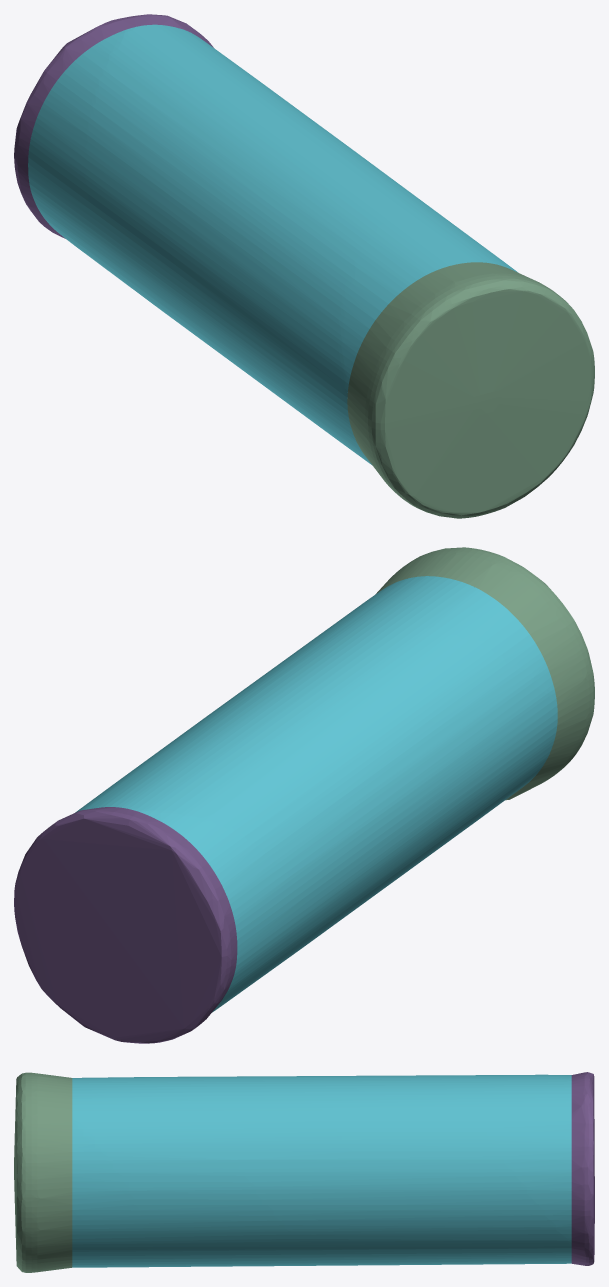
Rendered from coacd_collision.obj.
3 renders of one model, top to bottom at view 1: azimuth 30°, elevation 25°; view 2: azimuth 150°, elevation 25°; view 3: azimuth 270°, elevation 25°, orthographic. The views are drawn at different scales.
Parts seen in each view (by area): view 1: geometry_2, geometry_0, geometry_1; view 2: geometry_2, geometry_1, geometry_0; view 3: geometry_2, geometry_0, geometry_1.
Boxes of the visible parts, x1,y1,x2,y2 form: geometry_2: [28, 24, 518, 465]; geometry_0: [347, 262, 594, 518]; geometry_1: [14, 14, 213, 238]; geometry_2: [75, 576, 557, 1012]; geometry_1: [14, 807, 237, 1043]; geometry_0: [375, 547, 594, 800]; geometry_2: [72, 1074, 571, 1267]; geometry_0: [14, 1072, 72, 1272]; geometry_1: [571, 1072, 594, 1265].
Bounding box in the file's own units: 72.9 × 73.13 × 212.
